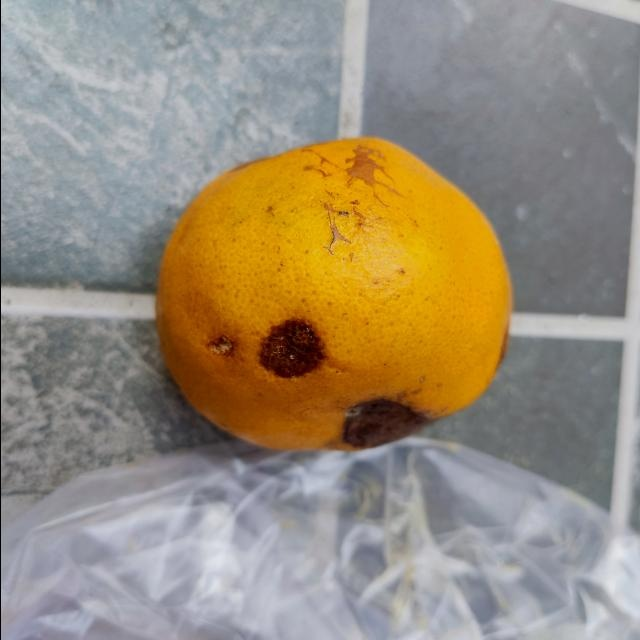agrume: (153, 129, 515, 457)
